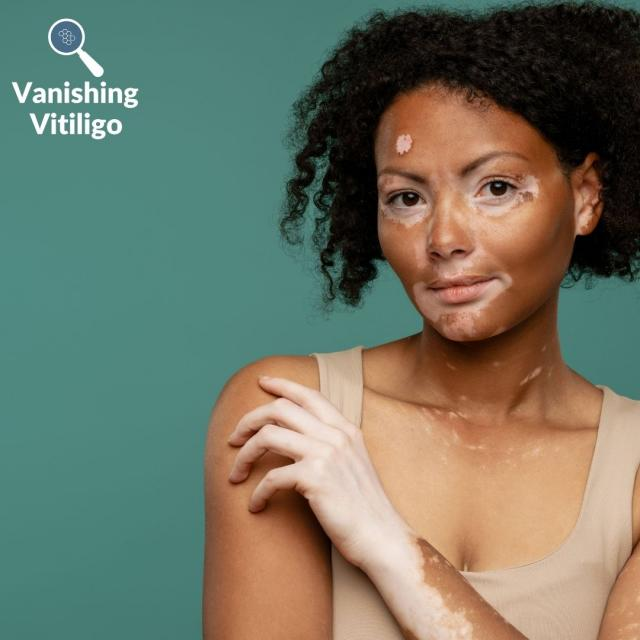vitiligo: (378, 114, 565, 481), (374, 539, 519, 640)
